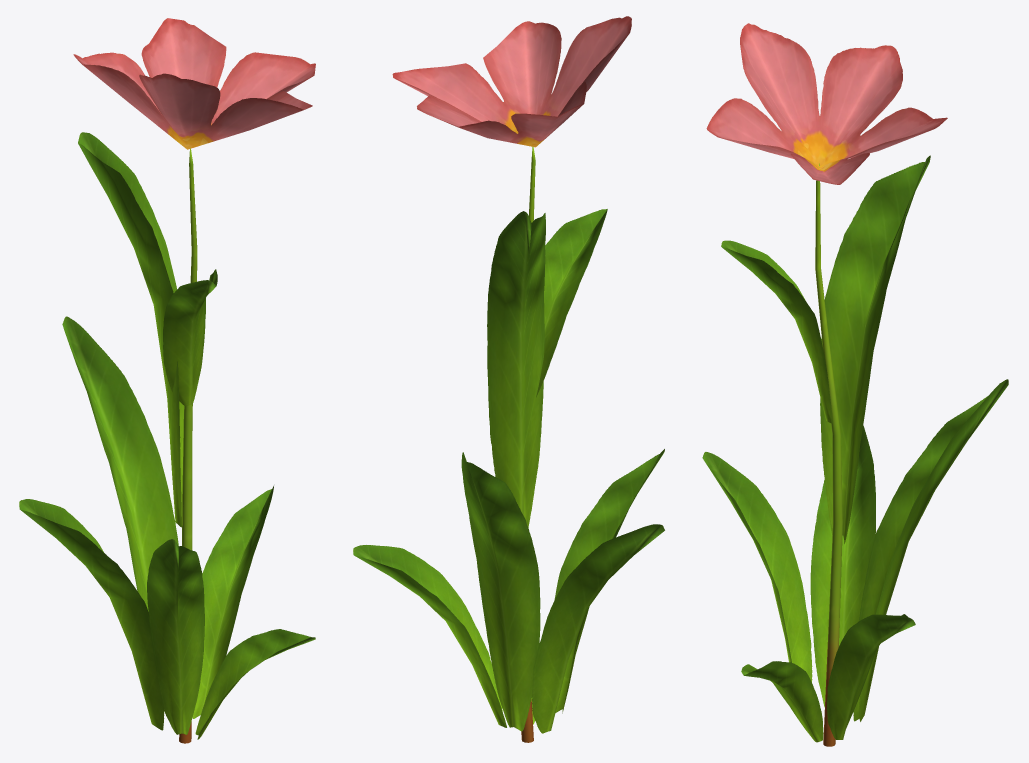
File: Flower_3_Single.gltf
3 renders of one model, left to right at view 1: azimuth 30°, elevation 25°; view 2: azimuth 150°, elevation 25°; view 3: azimuth 270°, elevation 25°, orthographic. The views are drawn at different scales.
Visible parts, largest first — view 1: Flower_3_Single; view 2: Flower_3_Single; view 3: Flower_3_Single.
Part boxes in pixels (x1,y1,x2,y2): Flower_3_Single: (19,18,315,743); Flower_3_Single: (353,16,664,742); Flower_3_Single: (702,23,1008,746).
Size of the model in its own units: 0.9118 by 2.13 by 0.8761.
2 materials, 2 textured.
